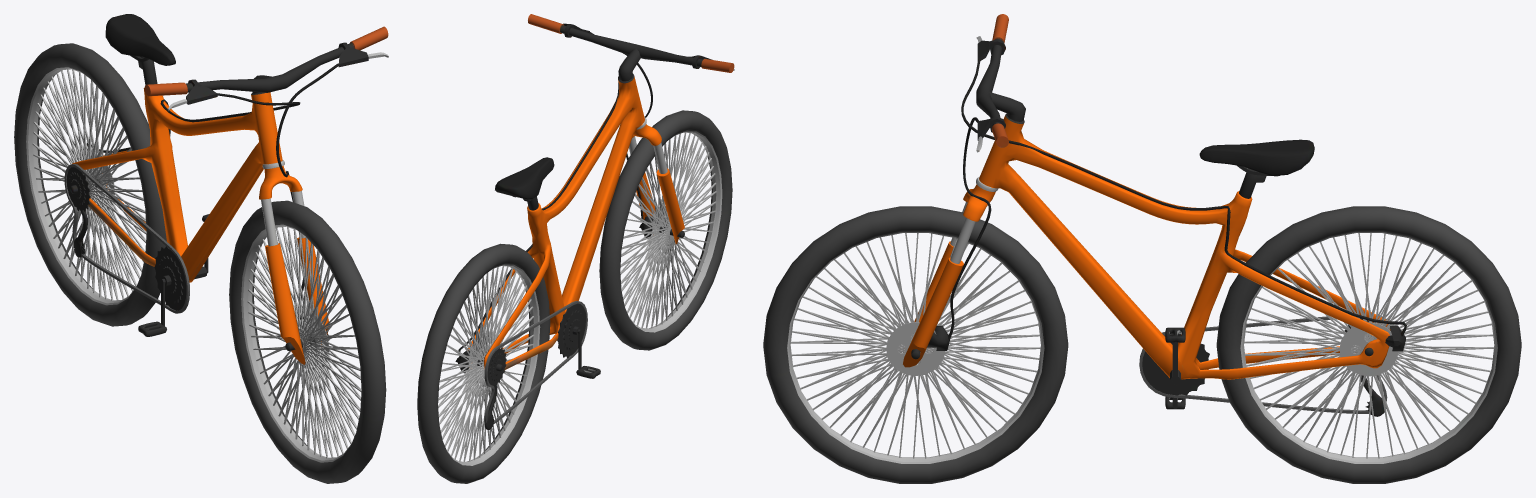
File: bicycle_game_asset.glb
The picture shows the model from 3 angles, left to right: view 1: azimuth 30°, elevation 25°; view 2: azimuth 150°, elevation 25°; view 3: azimuth 270°, elevation 25°; orthographic projection. The views are drawn at different scales.
Parts seen in each view (by area): view 1: FrontWheel, RearWheel, Bicycle, Handle, Seat, Pedalier, Chain; view 2: FrontWheel, RearWheel, Bicycle, Handle, Seat, Pedalier, Chain; view 3: FrontWheel, RearWheel, Bicycle, Handle, Seat, Pedalier, Chain.
Boxes of the visible parts, bbox=[...] form: FrontWheel: bbox=[229, 200, 386, 483]; RearWheel: bbox=[14, 43, 166, 326]; Bicycle: bbox=[70, 88, 300, 282]; Handle: bbox=[144, 26, 388, 364]; Seat: bbox=[105, 14, 175, 84]; Pedalier: bbox=[154, 221, 208, 325]; Chain: bbox=[64, 163, 189, 313]; FrontWheel: bbox=[599, 110, 732, 350]; RearWheel: bbox=[417, 243, 550, 483]; Bicycle: bbox=[455, 56, 692, 429]; Handle: bbox=[528, 14, 734, 244]; Seat: bbox=[495, 157, 554, 210]; Pedalier: bbox=[557, 303, 585, 369]; Chain: bbox=[484, 301, 587, 424]; FrontWheel: bbox=[763, 206, 1068, 483]; RearWheel: bbox=[1216, 206, 1521, 483]; Bicycle: bbox=[961, 59, 1406, 416]; Handle: bbox=[903, 14, 1025, 367]; Seat: bbox=[1199, 139, 1314, 198]; Pedalier: bbox=[1142, 334, 1209, 408]; Chain: bbox=[1139, 315, 1390, 413].
Size of the model in its own units: 0.6603 by 1.03 by 1.73.
2 materials, 1 textured.
